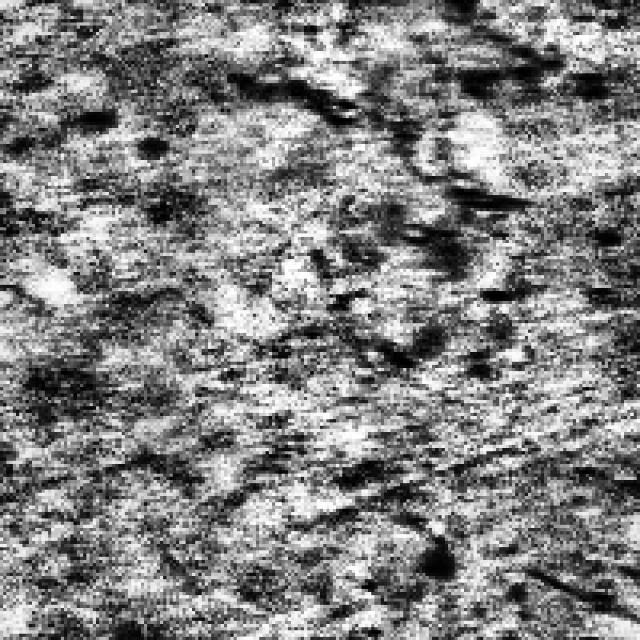Crazing: (211, 6, 557, 358), (413, 522, 637, 618)
